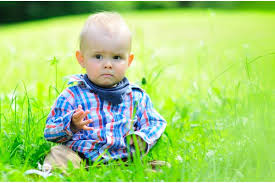child: (43, 10, 164, 174)
